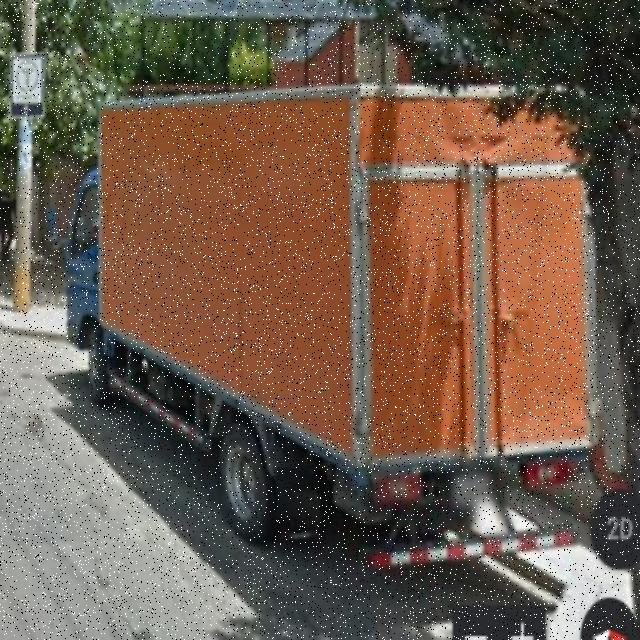cars: (67, 100, 585, 552)
